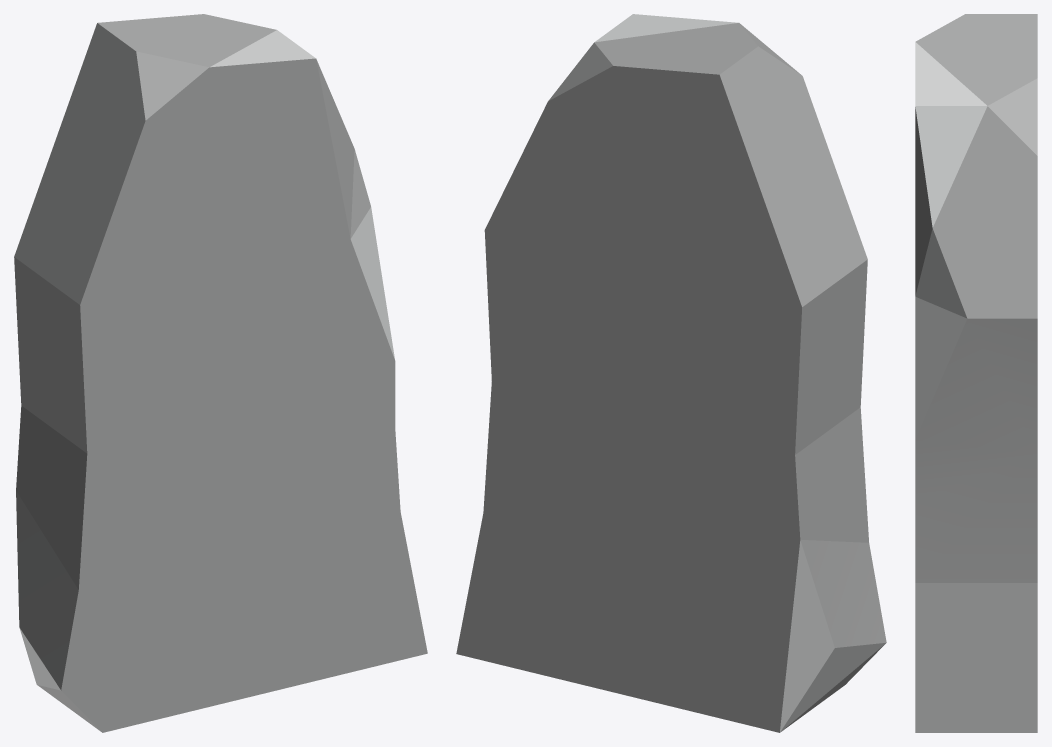
File: stone_7.fbx
3 views of the same model, side by side, from view 1: azimuth 30°, elevation 25°; view 2: azimuth 150°, elevation 25°; view 3: azimuth 270°, elevation 25° (orthographic). The views are drawn at different scales.
Visible parts, largest first — view 1: stone_7; view 2: stone_7; view 3: stone_7.
Boxes of the visible parts, x1,y1,x2,y2 form: stone_7: (14, 14, 427, 732); stone_7: (456, 14, 886, 732); stone_7: (915, 14, 1037, 732).
Bounding box in the file's own units: 126 × 213 × 39.3.
